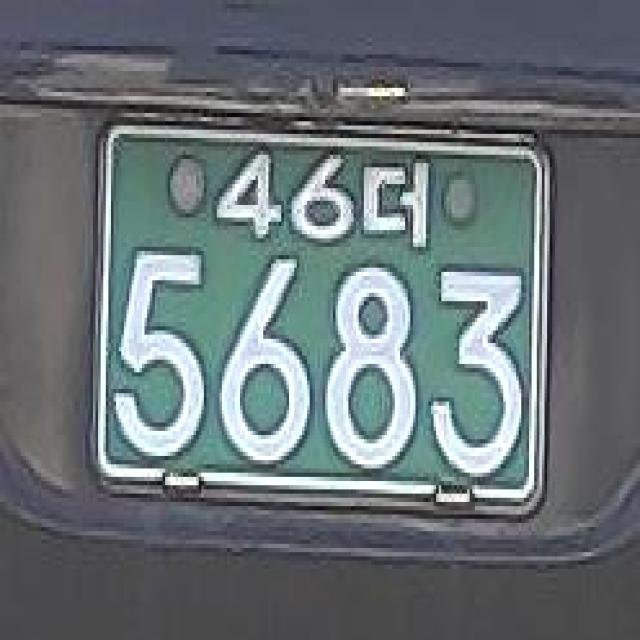illegal_plate: (75, 95, 568, 538)
